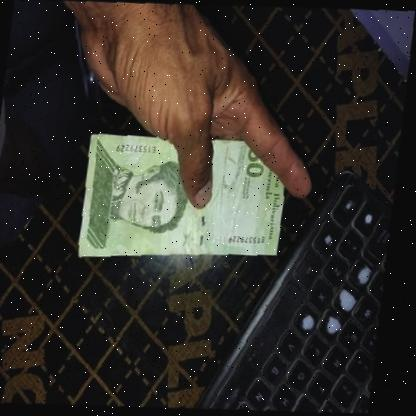fifty-front-vef: (75, 124, 298, 272)
